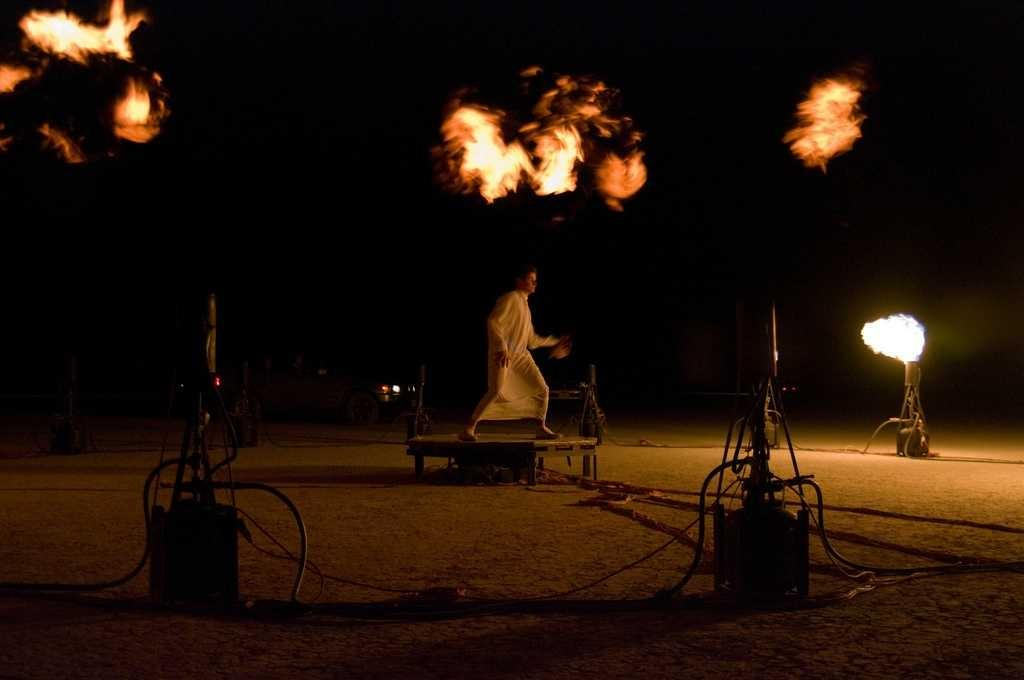fire: (808, 90, 857, 148), (38, 22, 127, 50), (873, 318, 922, 357), (467, 127, 502, 175), (547, 143, 575, 195)
